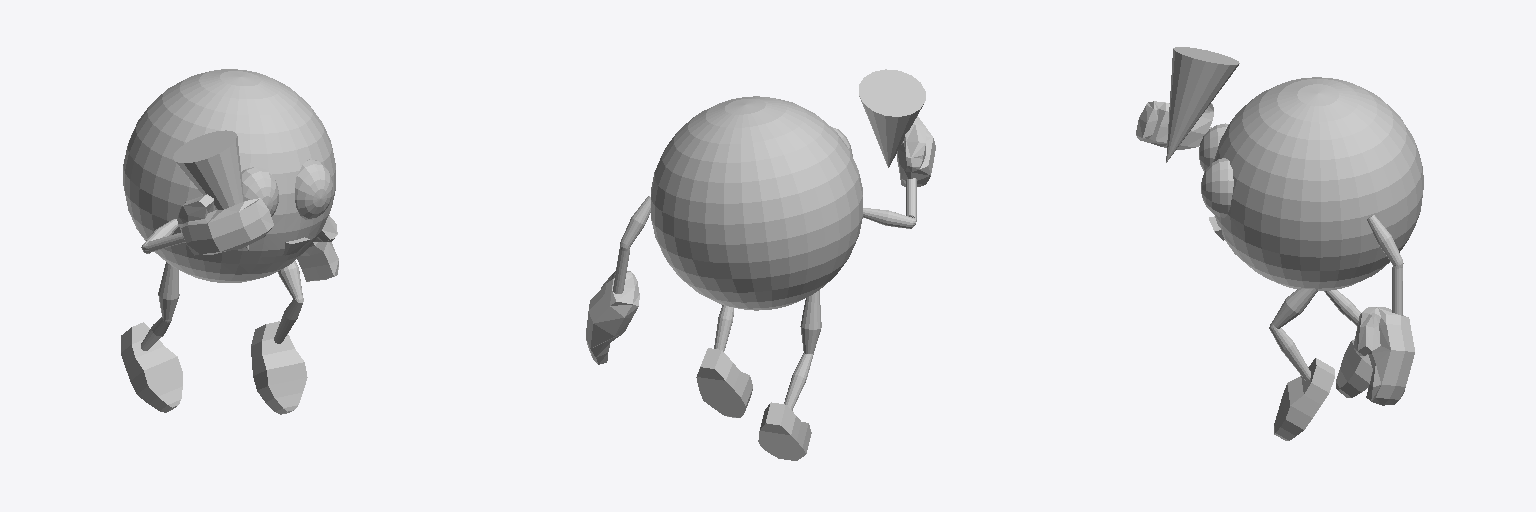
The model's file is runToStand_000012.obj.
3 views of the same model, side by side, from view 1: azimuth 30°, elevation 25°; view 2: azimuth 150°, elevation 25°; view 3: azimuth 270°, elevation 25° (orthographic).
Parts seen in each view (by area): view 1: Rusko_Sphere; view 2: Rusko_Sphere; view 3: Rusko_Sphere.
Boxes of the visible parts, x1=… form: Rusko_Sphere: x1=121, y1=69, x2=338, y2=414; Rusko_Sphere: x1=586, y1=69, x2=935, y2=460; Rusko_Sphere: x1=1136, y1=47, x2=1423, y2=440.
Size of the model in its own units: 5.63 by 6.91 by 5.39.